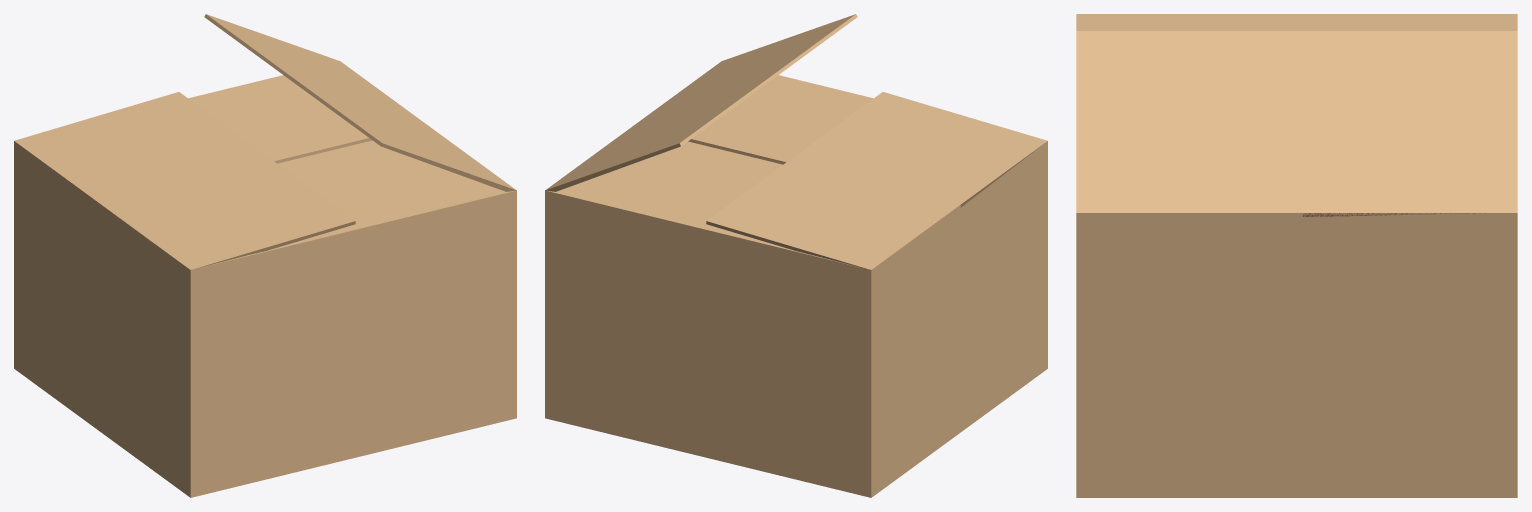
The model's file is CAJA CARTON.fbx.
The picture shows the model from 3 angles, left to right: view 1: azimuth 30°, elevation 25°; view 2: azimuth 150°, elevation 25°; view 3: azimuth 270°, elevation 25°; orthographic projection. The views are drawn at different scales.
Visible parts, largest first — view 1: Cube.004; view 2: Cube.004; view 3: Cube.004.
Boxes of the visible parts, bbox=[...] form: Cube.004: bbox=[14, 14, 516, 497]; Cube.004: bbox=[545, 14, 1047, 497]; Cube.004: bbox=[1076, 14, 1517, 497].
Size of the model in its own units: 213 by 192 by 200.
